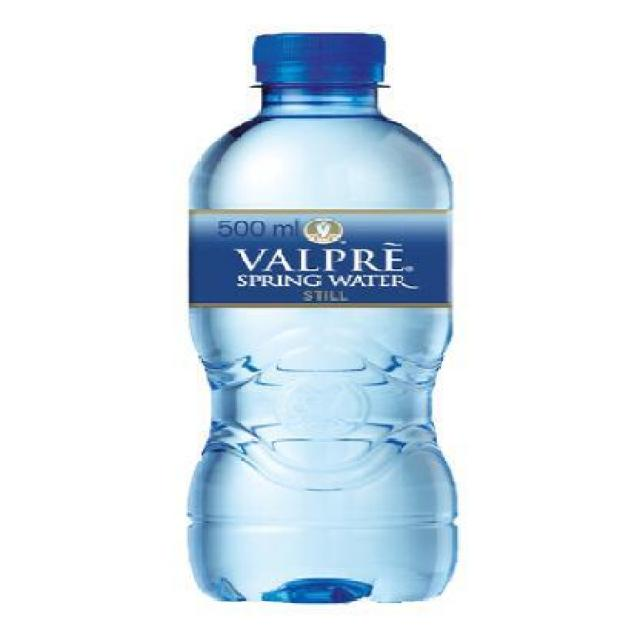bottle: (156, 11, 477, 610)
